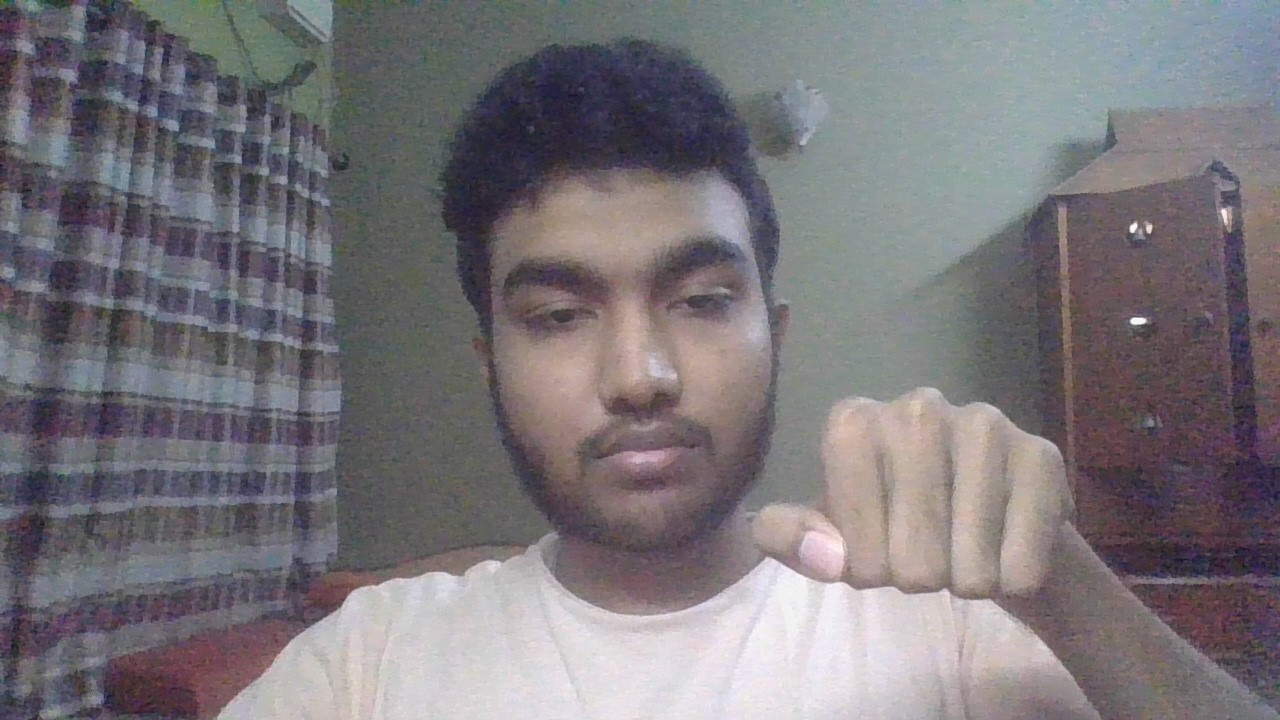Yes: (751, 381, 1085, 650)
